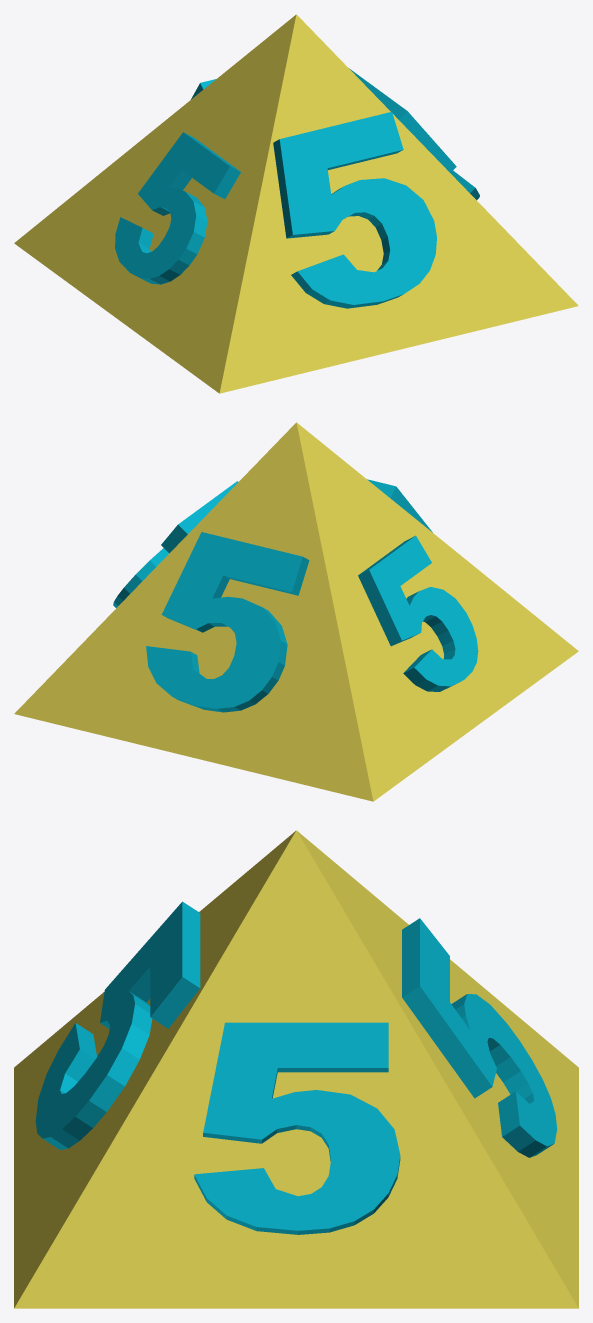
Rendered from number5.glb.
3 renders of one model, top to bottom at view 1: azimuth 30°, elevation 25°; view 2: azimuth 150°, elevation 25°; view 3: azimuth 270°, elevation 25°, orthographic. The views are drawn at different scales.
Visible parts, largest first — view 1: Mesh_Mesh_head_geo.001_lambert2SG.001; view 2: Mesh_Mesh_head_geo.001_lambert2SG.001; view 3: Mesh_Mesh_head_geo.001_lambert2SG.001.
Part boxes in pixels (bbox=[...]): Mesh_Mesh_head_geo.001_lambert2SG.001: bbox=[14, 14, 578, 393]; Mesh_Mesh_head_geo.001_lambert2SG.001: bbox=[14, 422, 578, 801]; Mesh_Mesh_head_geo.001_lambert2SG.001: bbox=[14, 830, 578, 1308].
Size of the model in its own units: 0.104 by 0.072 by 0.103.
